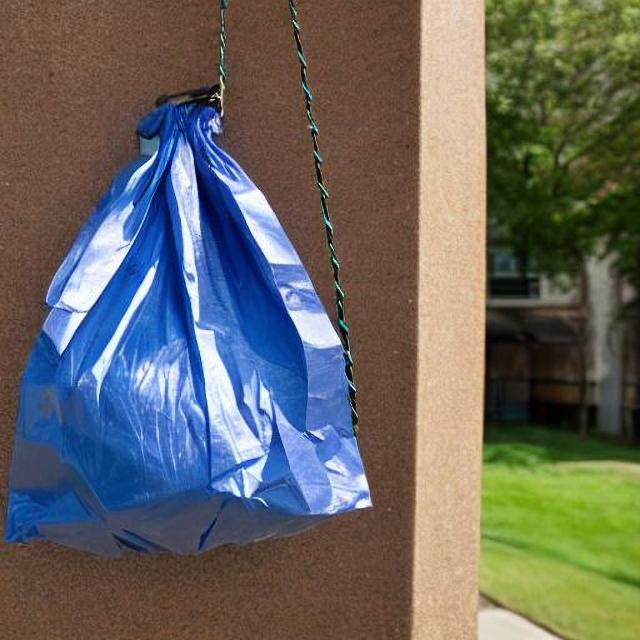plastic bag: (29, 81, 372, 551)
